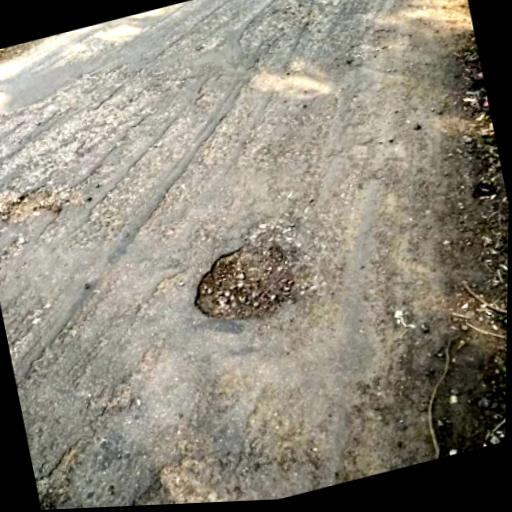pothole: (179, 227, 315, 335), (0, 180, 57, 224)
